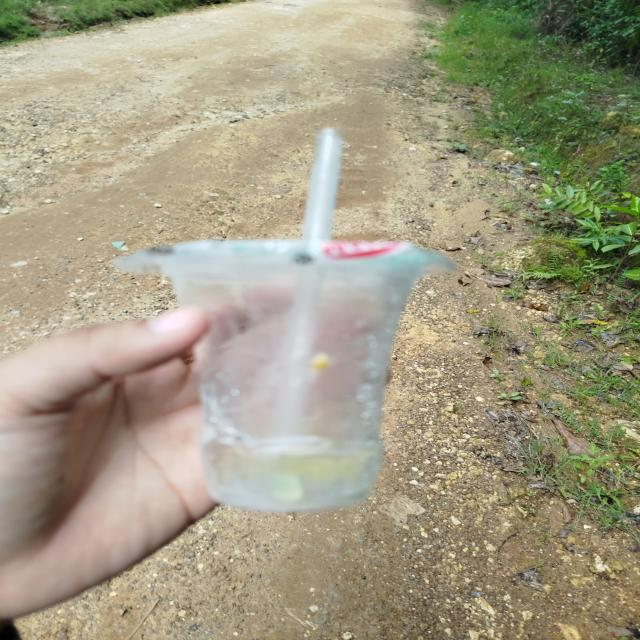plastic: (166, 133, 443, 529)
